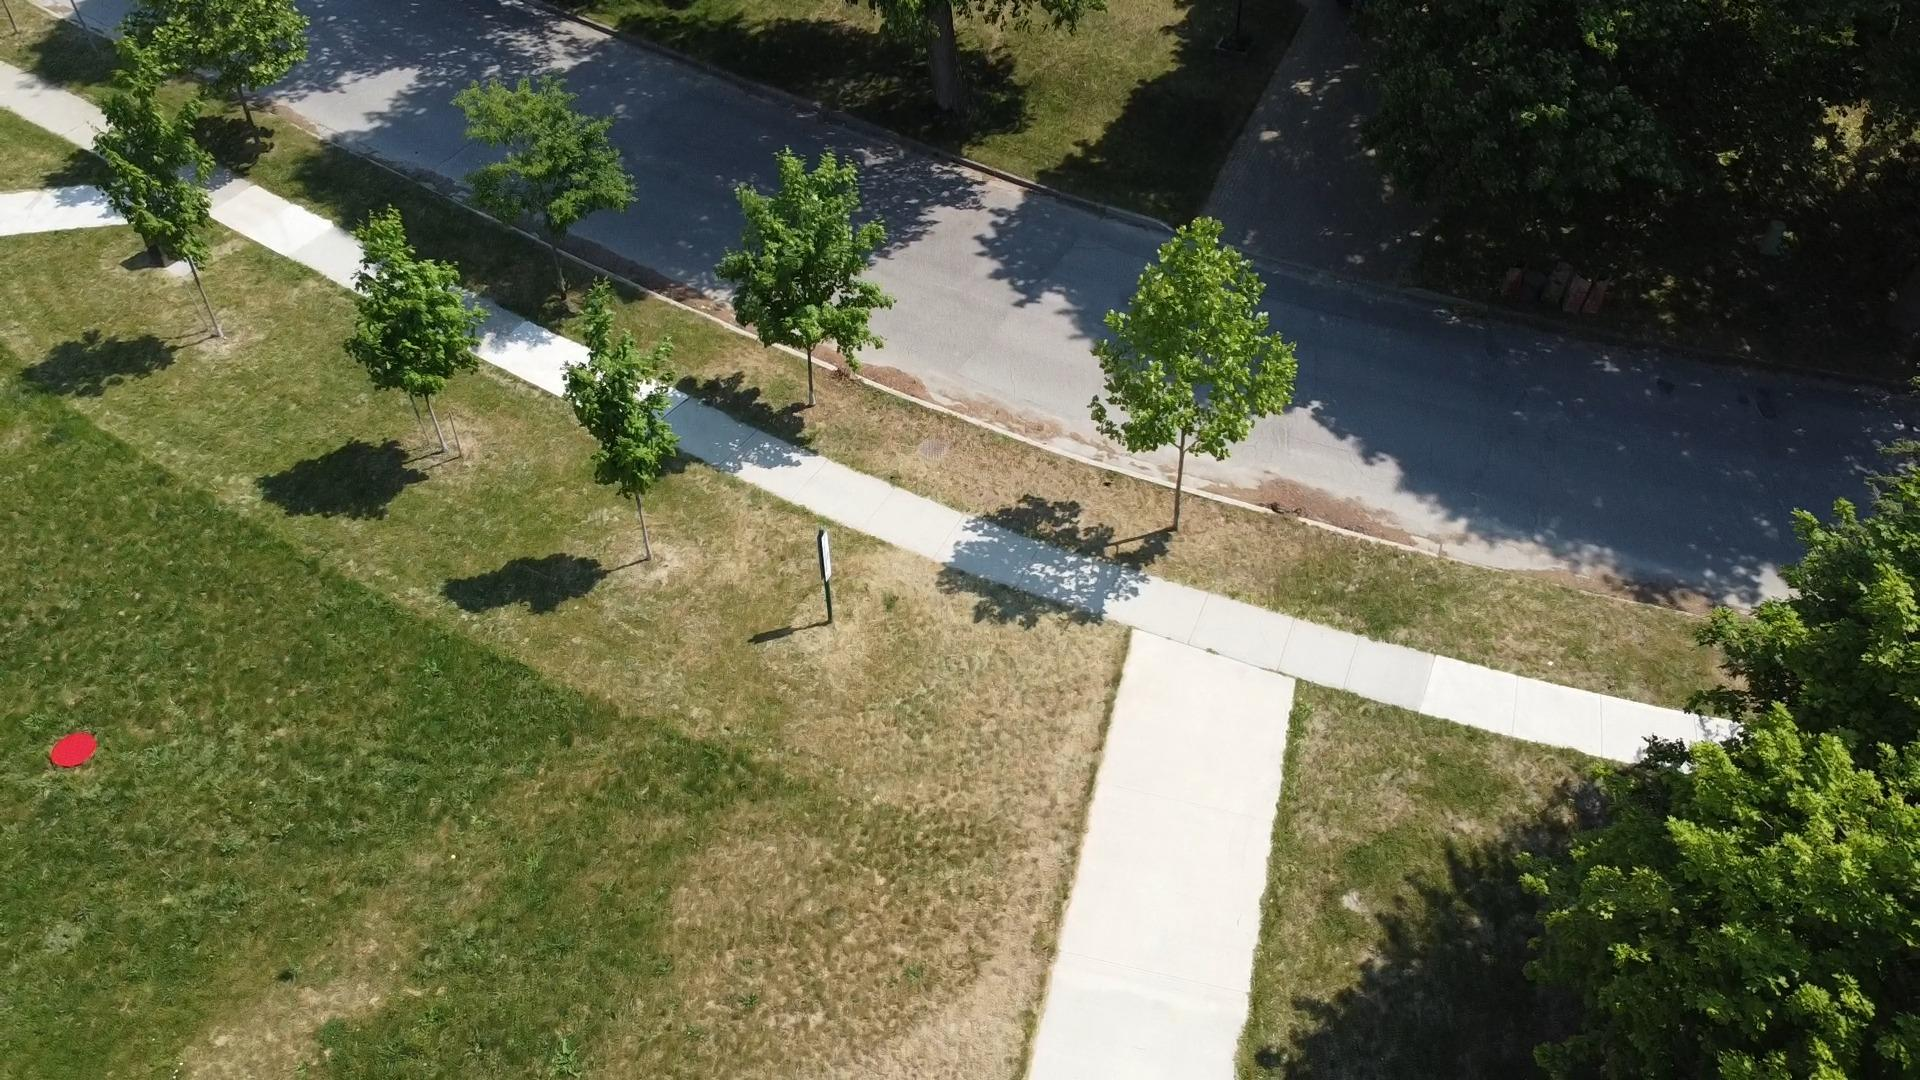Red: (49, 732, 98, 769)
